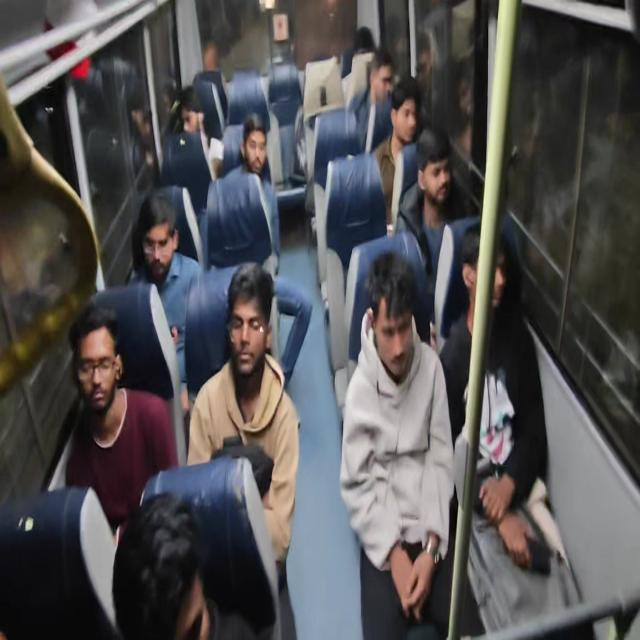person: (114, 500, 206, 640), (62, 296, 133, 422), (123, 189, 199, 293), (358, 251, 418, 380), (224, 259, 276, 406), (458, 226, 508, 326), (176, 71, 225, 161), (409, 115, 453, 211), (236, 112, 273, 184), (392, 72, 418, 142), (349, 20, 378, 60), (369, 56, 392, 100)
